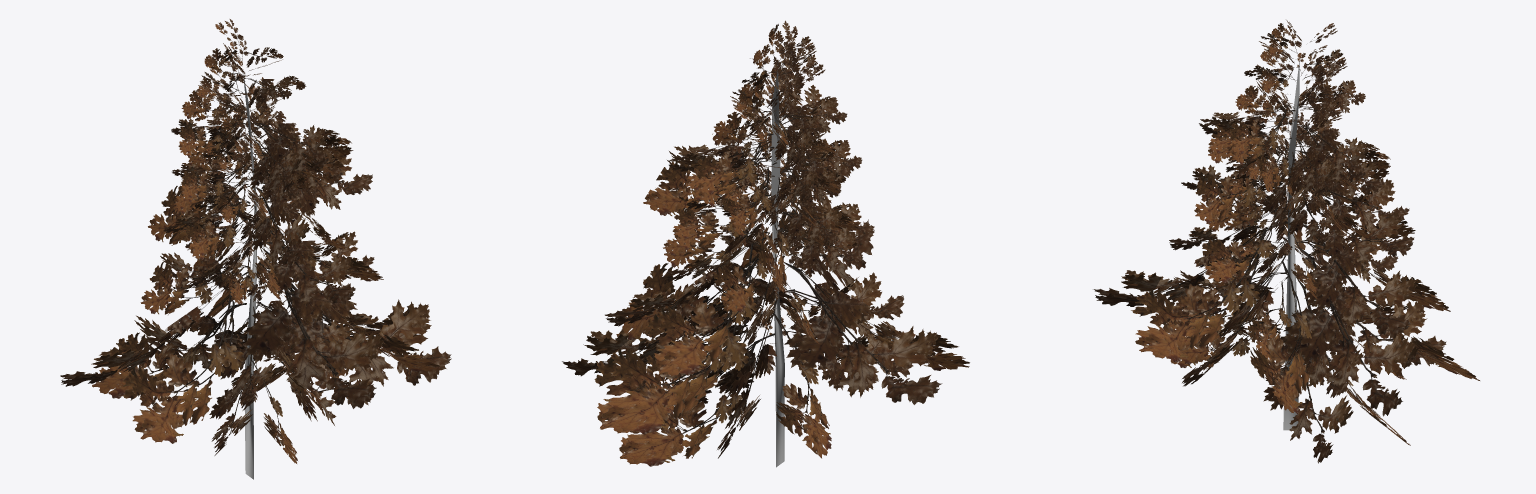
Rendered from spruce5 lod1.FBX.
The picture shows the model from 3 angles, left to right: view 1: azimuth 30°, elevation 25°; view 2: azimuth 150°, elevation 25°; view 3: azimuth 270°, elevation 25°; orthographic projection. The views are drawn at different scales.
Visible parts, largest first — view 1: spruce5_LOD1; view 2: spruce5_LOD1; view 3: spruce5_LOD1.
Part boxes in pixels (box(x1,y1,x2,y2)): spruce5_LOD1: box(60, 19, 451, 479); spruce5_LOD1: box(562, 20, 969, 467); spruce5_LOD1: box(1093, 20, 1479, 463).
Bounding box in the file's own units: 130413 × 130732 × 136959.
